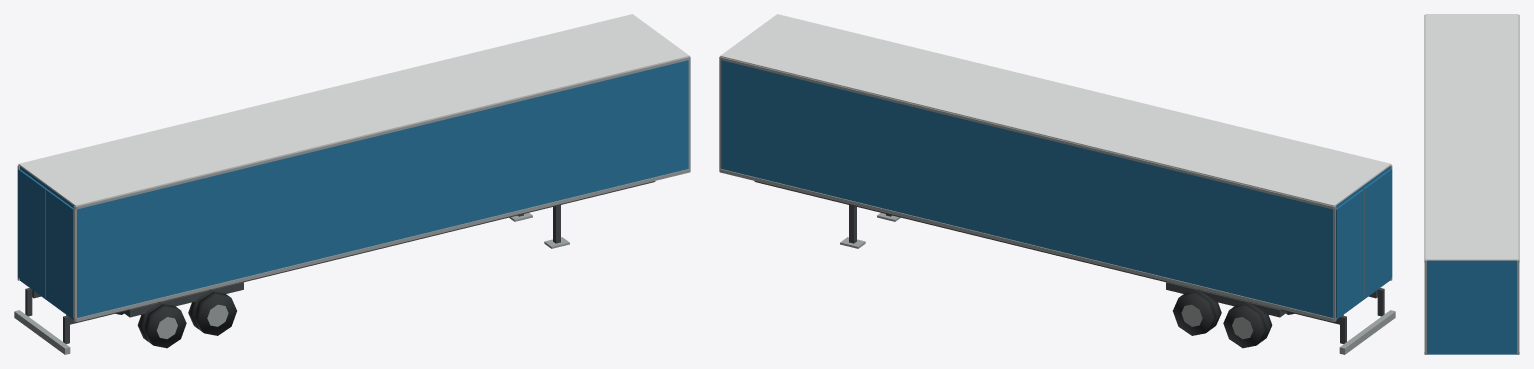
Rendered from SM_MPR3_Trailer_Blue_LOD2.fbx.
The picture shows the model from 3 angles, left to right: view 1: azimuth 30°, elevation 25°; view 2: azimuth 150°, elevation 25°; view 3: azimuth 270°, elevation 25°; orthographic projection. The views are drawn at different scales.
Visible parts, largest first — view 1: SM_MPR3_Trailer_Blue_LOD2; view 2: SM_MPR3_Trailer_Blue_LOD2; view 3: SM_MPR3_Trailer_Blue_LOD2.
Boxes of the visible parts, box(x1,y1,x2,y2) form: SM_MPR3_Trailer_Blue_LOD2: box(14, 14, 690, 354); SM_MPR3_Trailer_Blue_LOD2: box(719, 14, 1395, 354); SM_MPR3_Trailer_Blue_LOD2: box(1424, 14, 1519, 354).
Size of the model in its own units: 1638 by 264 by 417.
